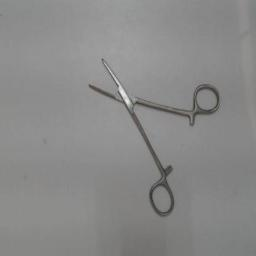Mayo Needle Holder: (80, 48, 224, 220)
